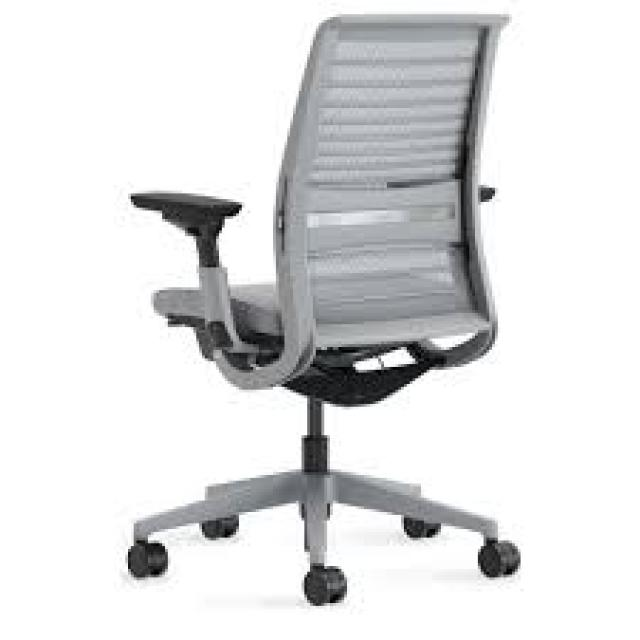chair: (86, 0, 622, 640)
